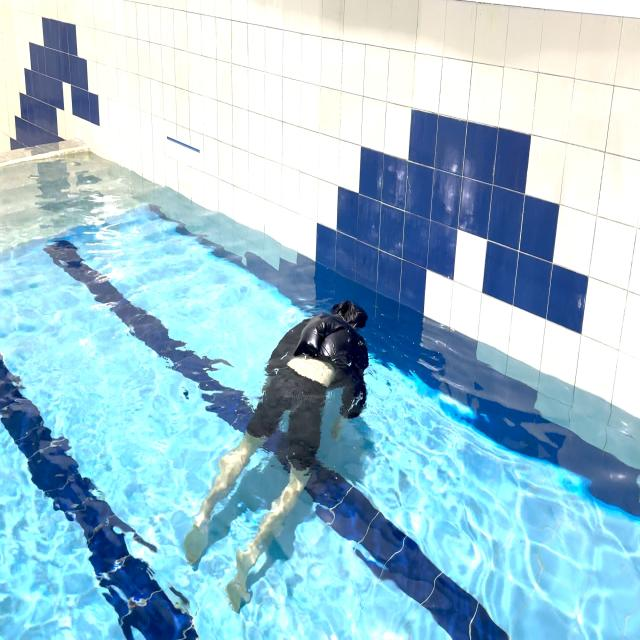Drowning: (180, 285, 380, 625)
